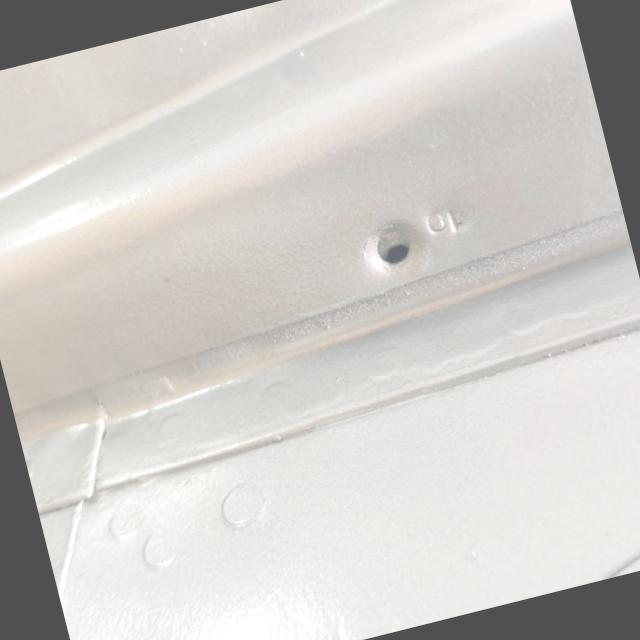Missing Fastener: (346, 211, 442, 295)
